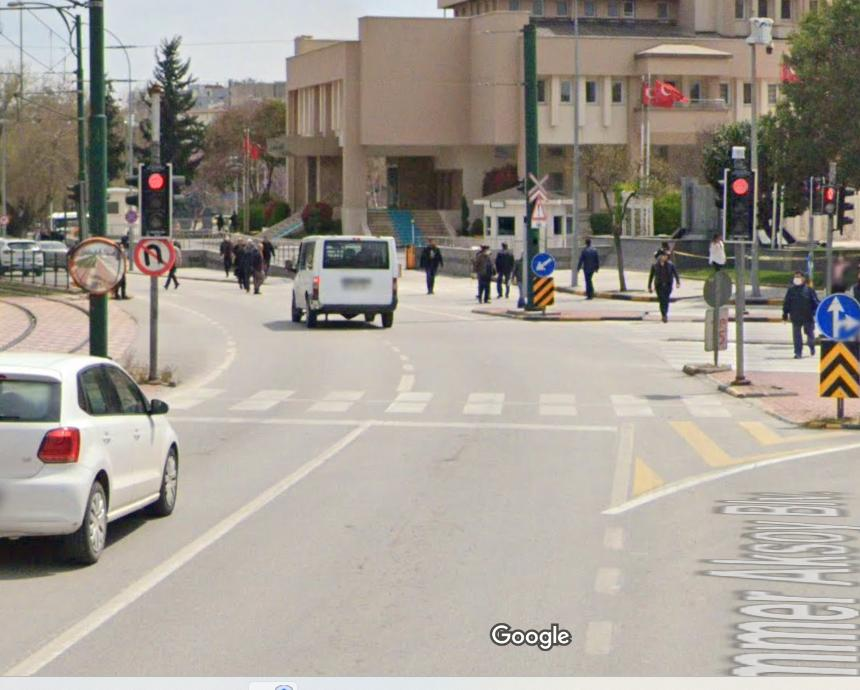redlight: (141, 164, 173, 237), (726, 167, 755, 245)
